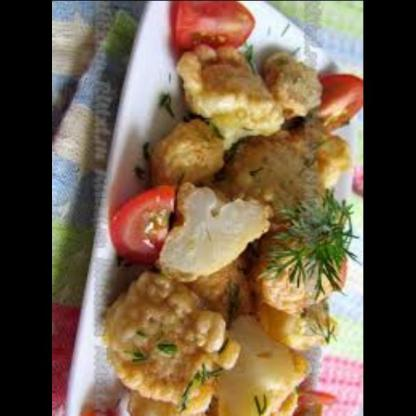cayliflower: (108, 282, 327, 416), (147, 39, 326, 195), (158, 180, 350, 312)
tomato: (105, 177, 184, 264), (162, 0, 264, 56), (307, 64, 364, 136), (307, 384, 347, 415)
